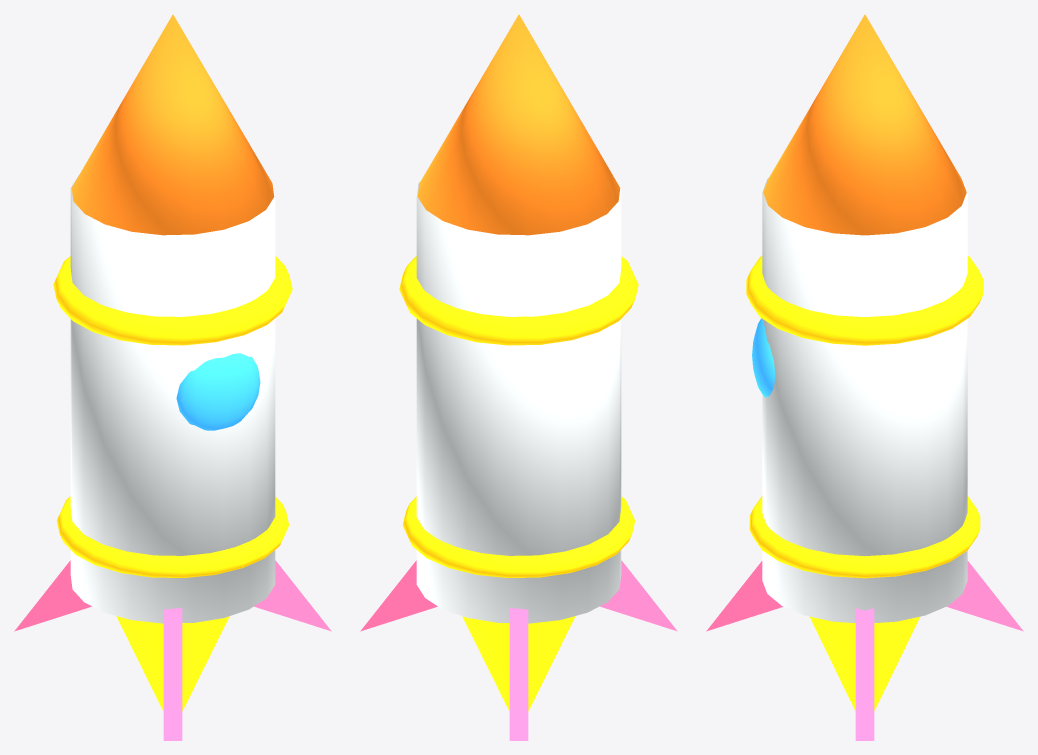
The model's file is rocket.glb.
3 views of the same model, side by side, from view 1: azimuth 30°, elevation 25°; view 2: azimuth 150°, elevation 25°; view 3: azimuth 270°, elevation 25° (orthographic).
Parts seen in each view (by area): view 1: shell, nose, bands, fins, window, flame; view 2: shell, nose, bands, fins, flame; view 3: shell, nose, bands, fins, flame, window.
Part boxes in pixels (left/top/right/bottom): shell: left=70, top=175, right=275, bottom=623; nose: left=71, top=14, right=274, bottom=235; bands: left=53, top=256, right=292, bottom=577; fins: left=14, top=560, right=331, bottom=740; window: left=176, top=353, right=260, bottom=430; flame: left=116, top=616, right=229, bottom=711; shell: left=416, top=175, right=621, bottom=623; nose: left=417, top=14, right=620, bottom=235; bands: left=399, top=256, right=638, bottom=577; fins: left=360, top=560, right=677, bottom=740; flame: left=462, top=616, right=575, bottom=711; shell: left=762, top=178, right=967, bottom=622; nose: left=763, top=14, right=966, bottom=235; bands: left=746, top=256, right=983, bottom=578; fins: left=706, top=561, right=1023, bottom=740; flame: left=810, top=616, right=919, bottom=710; window: left=752, top=318, right=775, bottom=397.
Size of the model in its own units: 0.87 by 2.31 by 0.9282.
